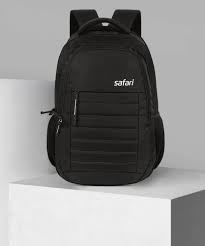backpack: (40, 8, 165, 186)
